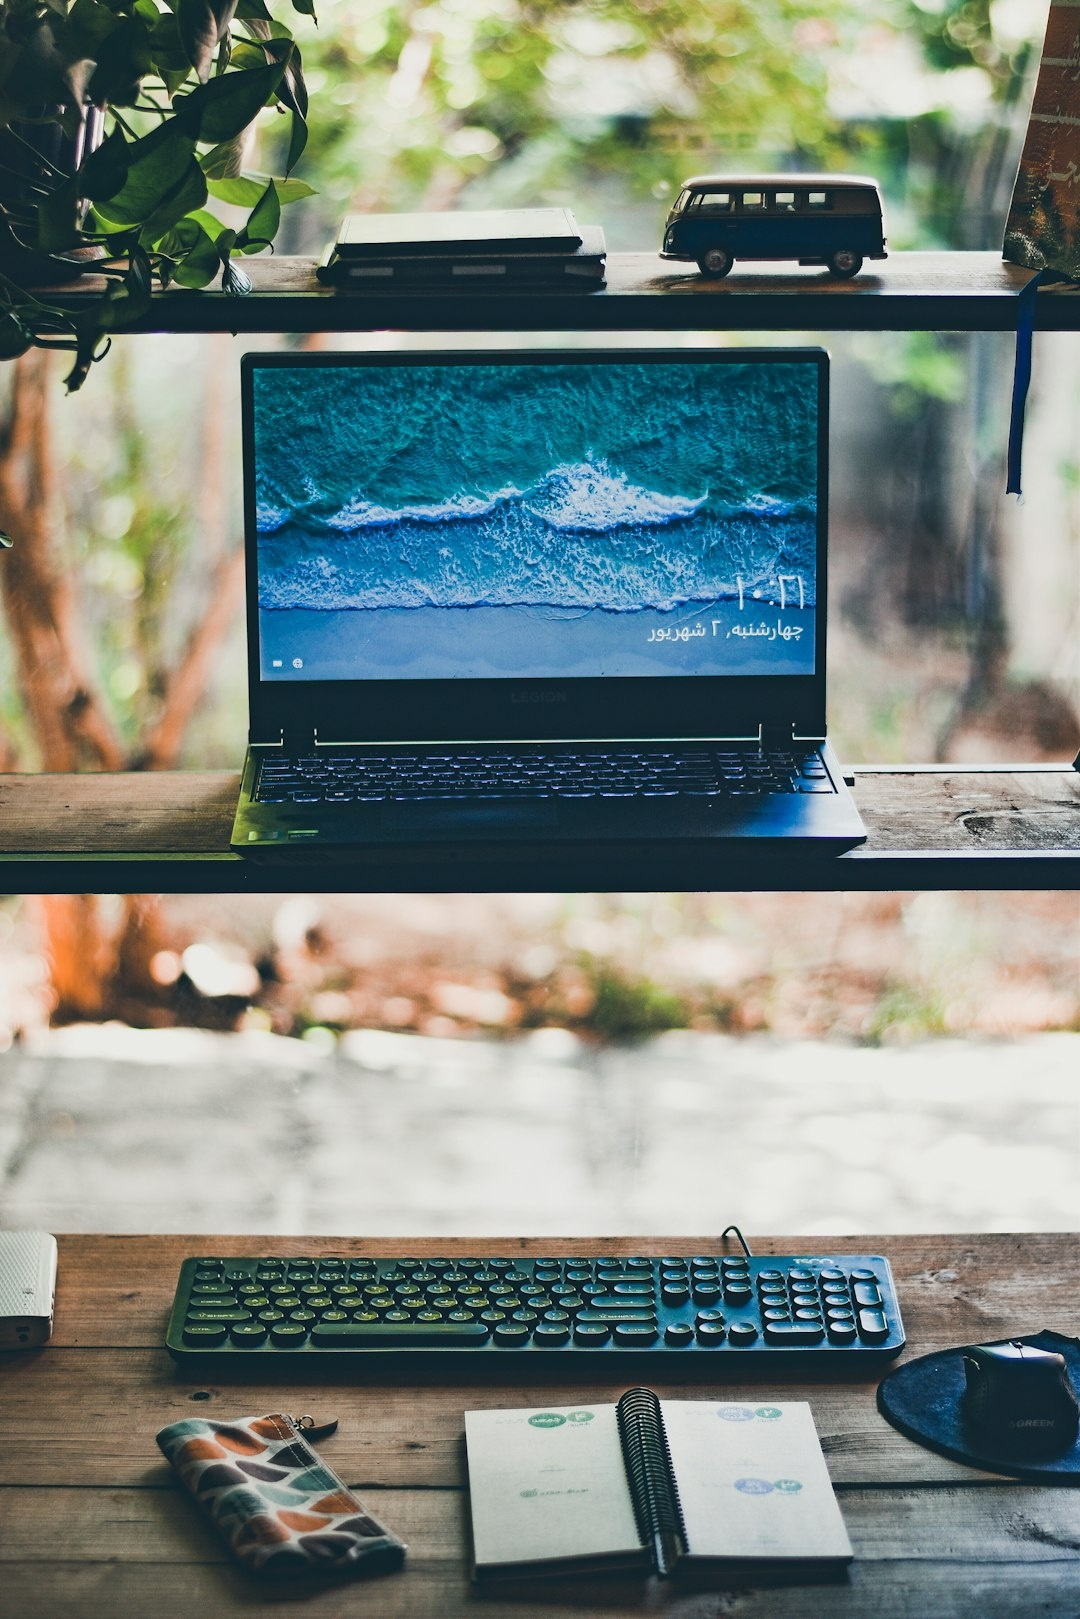laptop: (188, 335, 908, 890)
